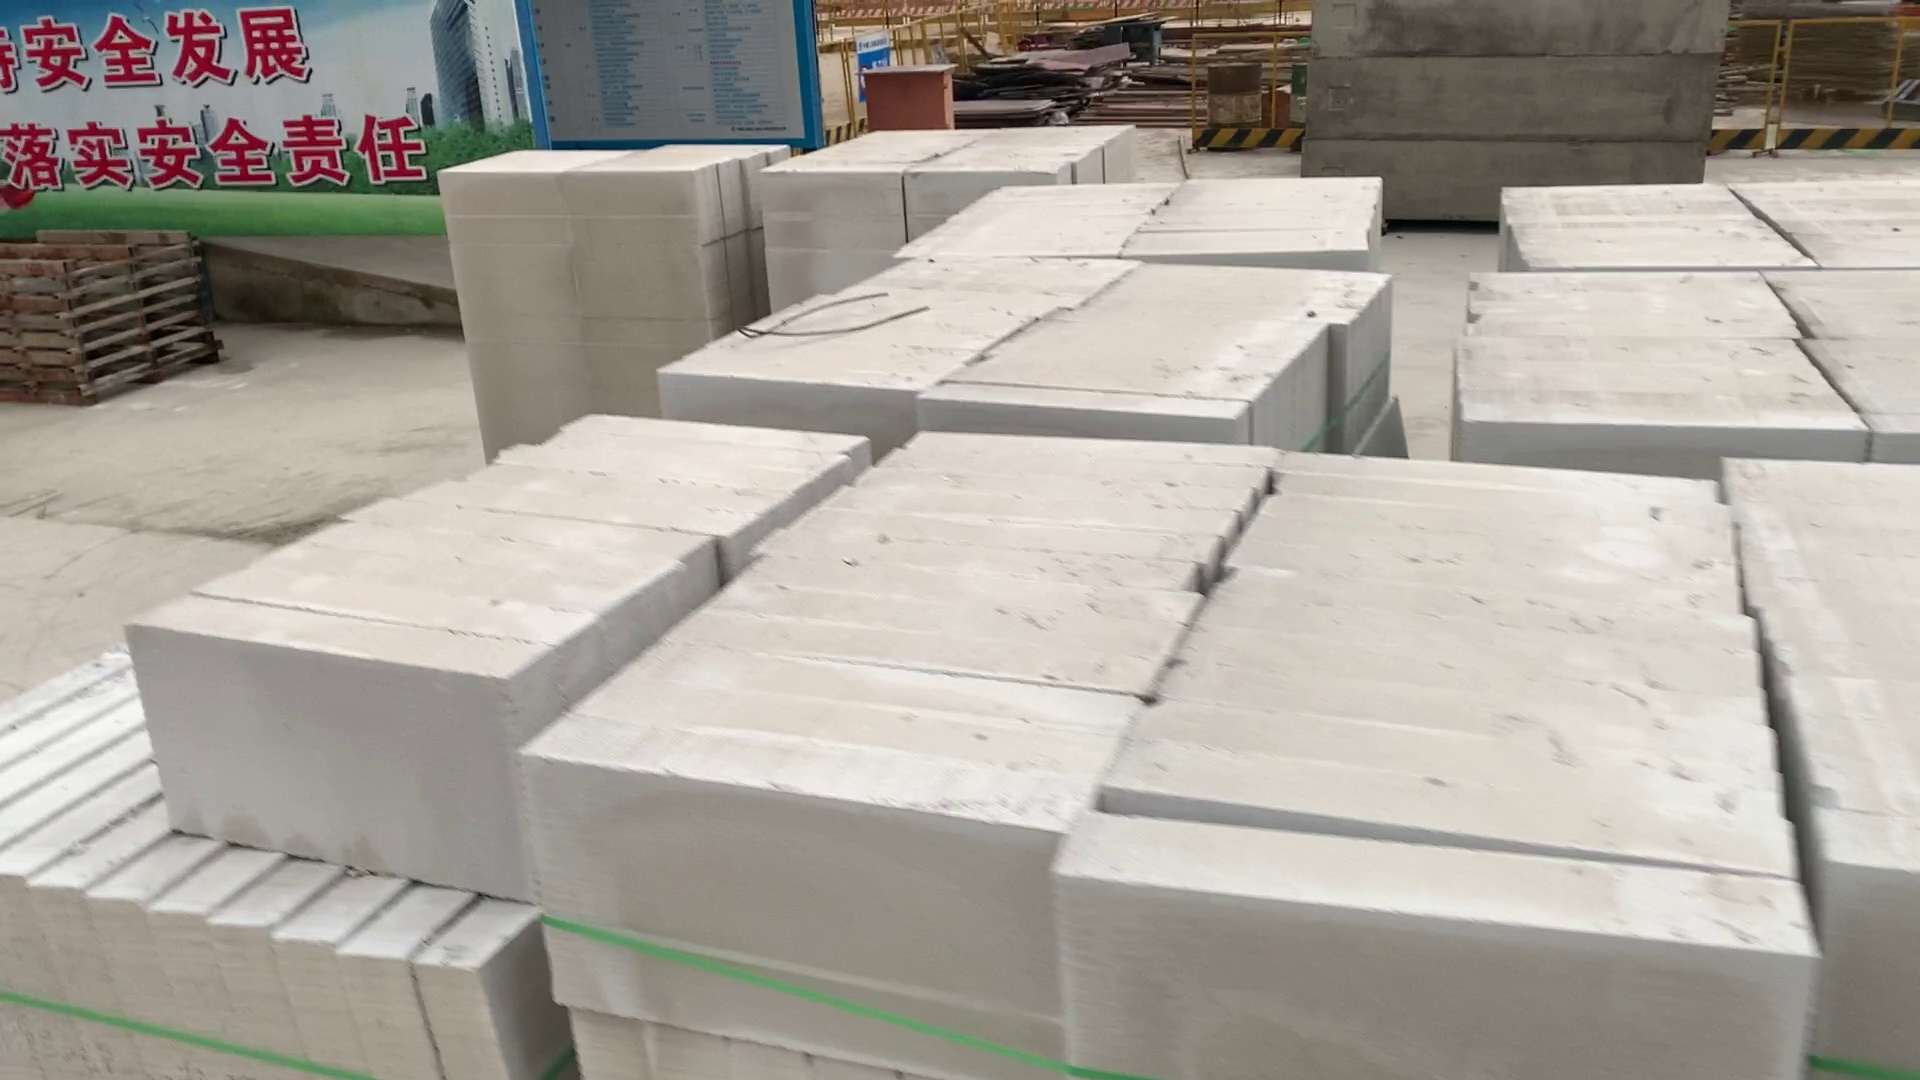brickwork: (576, 422, 1795, 1072), (142, 404, 877, 789), (1, 653, 525, 1080), (688, 255, 1375, 429), (1720, 443, 1920, 994), (1457, 265, 1920, 456), (443, 141, 717, 427), (1495, 173, 1920, 272), (916, 170, 1389, 256), (754, 119, 1127, 222)
